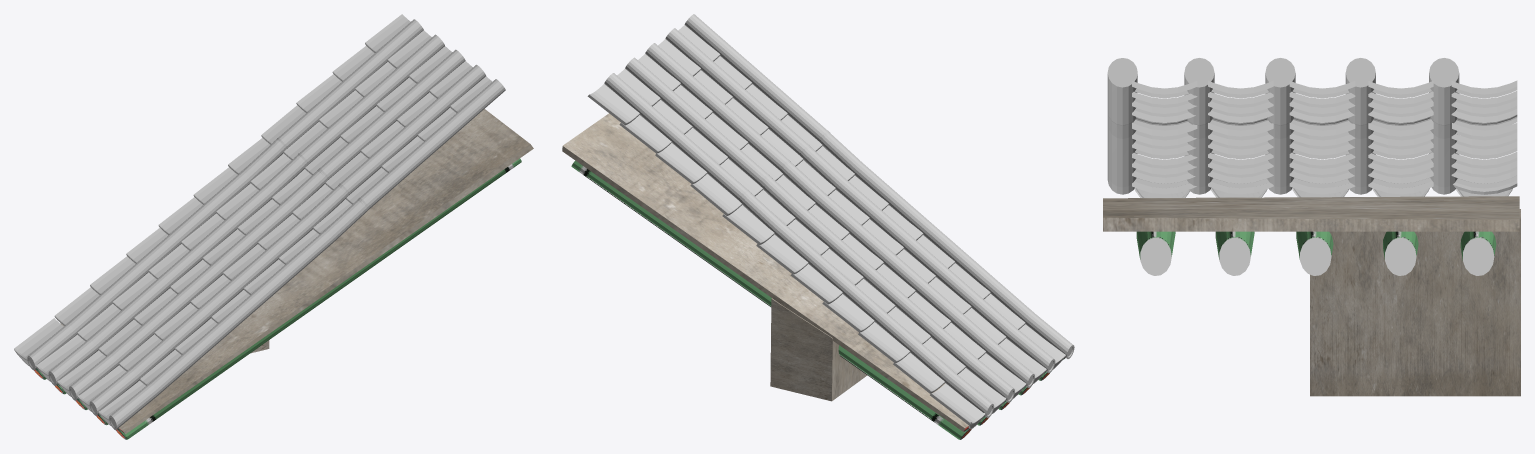
File: SM_Roof_17.fbx
The picture shows the model from 3 angles, left to right: view 1: azimuth 30°, elevation 25°; view 2: azimuth 150°, elevation 25°; view 3: azimuth 270°, elevation 25°; orthographic projection. The views are drawn at different scales.
Visible parts, largest first — view 1: SM_Roof_17; view 2: SM_Roof_17; view 3: SM_Roof_17.
Part boxes in pixels (left/top/right/bottom): SM_Roof_17: left=14, top=14, right=533, bottom=439; SM_Roof_17: left=562, top=14, right=1074, bottom=439; SM_Roof_17: left=1103, top=58, right=1520, bottom=396.
Size of the model in its own units: 478 by 211 by 303.
